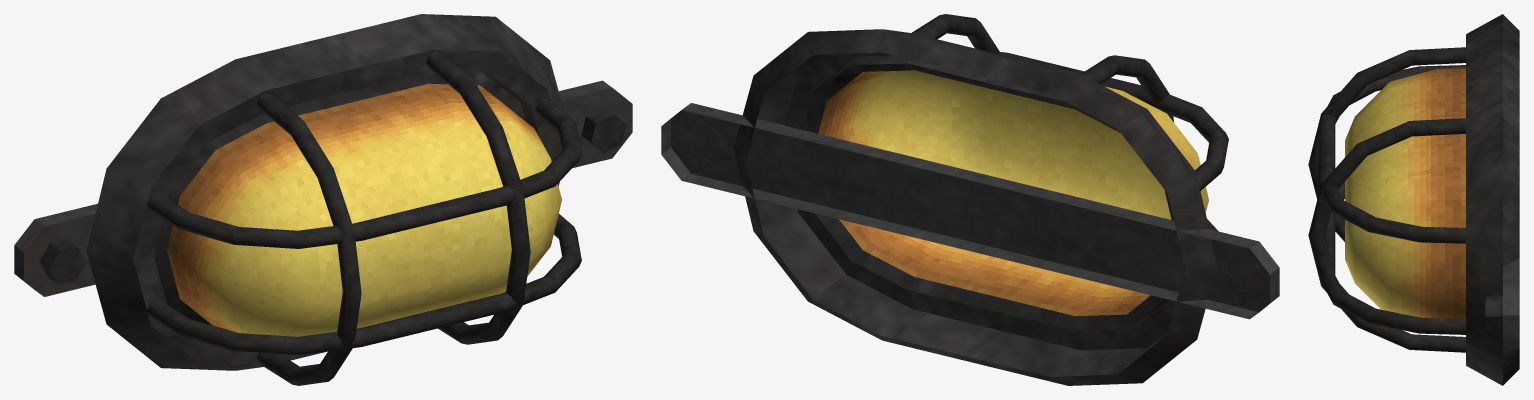
Rendered from lamp_2_on.fbx.
The picture shows the model from 3 angles, left to right: view 1: azimuth 30°, elevation 25°; view 2: azimuth 150°, elevation 25°; view 3: azimuth 270°, elevation 25°; orthographic projection. The views are drawn at different scales.
Parts seen in each view (by area): view 1: lamp_2_on; view 2: lamp_2_on; view 3: lamp_2_on.
Part boxes in pixels (left/top/right/bottom): lamp_2_on: left=14, top=14, right=632, bottom=385; lamp_2_on: left=661, top=14, right=1279, bottom=385; lamp_2_on: left=1308, top=14, right=1519, bottom=385.
Bounding box in the file's own units: 0.36 × 0.126 × 0.176.
